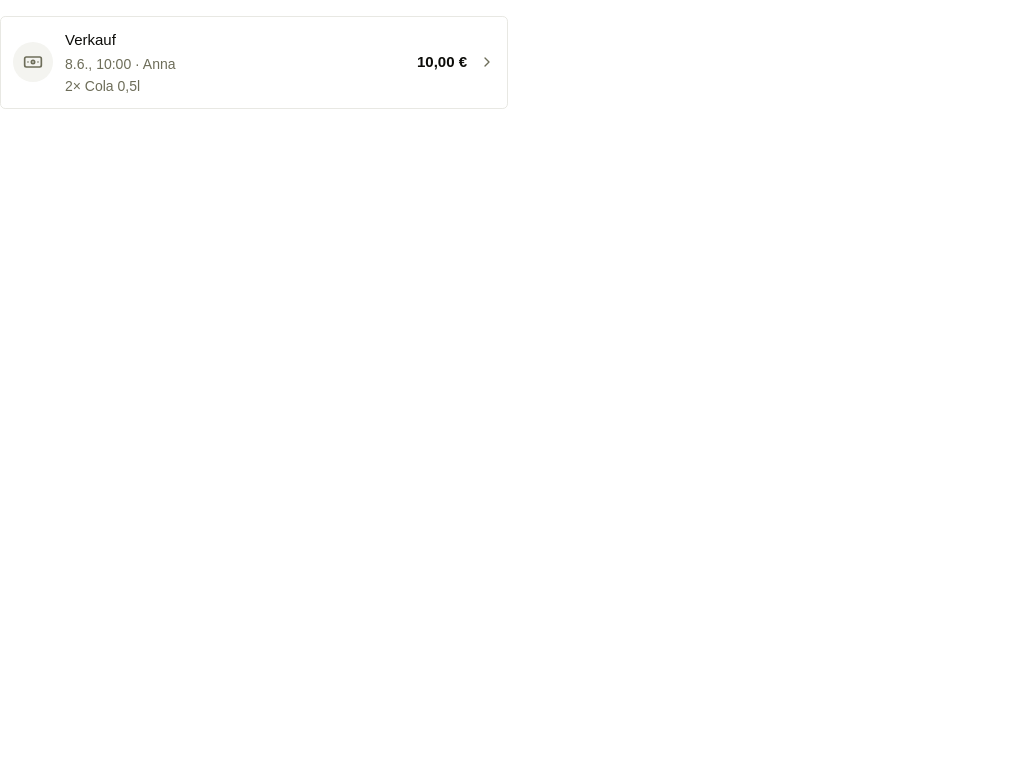
it: VorgangHistorie › offers no cancellation to a service role without canCancel
Step 1. Click the button "Verkauf 8.6., 10:00 · Anna 2× Cola 0,5l 10,00 €" → point(33, 62), box x1=0 y1=16 x2=508 y2=108
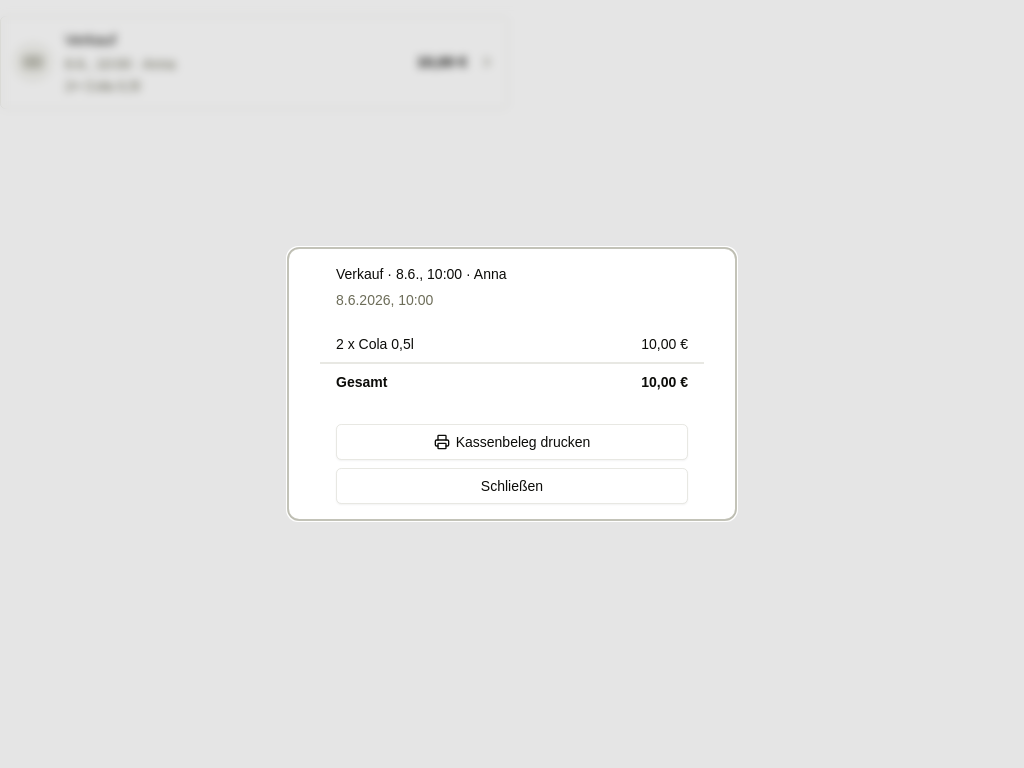
expect the button "Kassenbeleg drucken" is shown: met, box x1=336 y1=424 x2=688 y2=460
